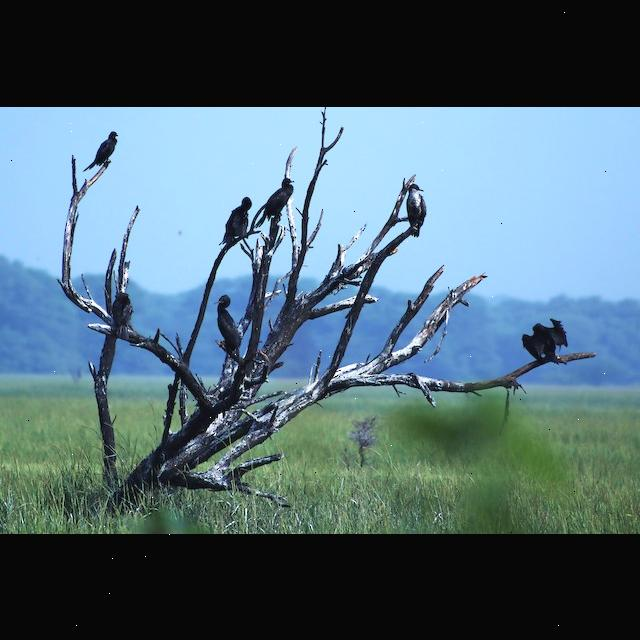cormorant: (518, 314, 574, 366), (213, 288, 249, 358), (256, 174, 298, 228), (216, 193, 254, 249), (84, 128, 124, 174), (404, 183, 431, 241)
